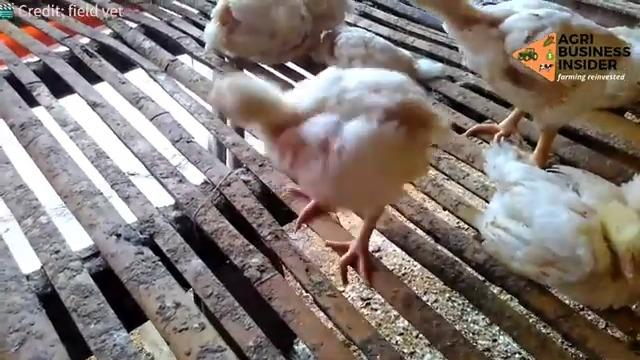Normal: (215, 78, 439, 258)
